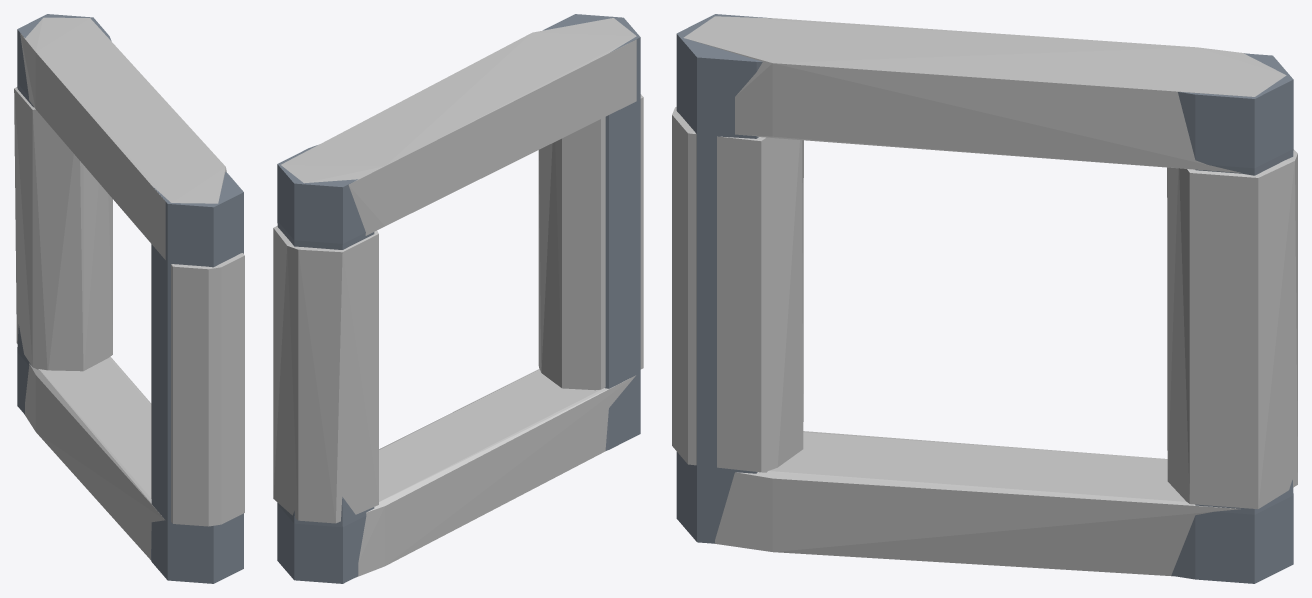
File: SM_Bld_Door_02_Handle_01.fbx
The picture shows the model from 3 angles, left to right: view 1: azimuth 30°, elevation 25°; view 2: azimuth 150°, elevation 25°; view 3: azimuth 270°, elevation 25°; orthographic projection. The views are drawn at different scales.
Visible parts, largest first — view 1: SM_Bld_Door_02_Handle_01_ConvexHulls, SM_Bld_Door_02_Handle_01; view 2: SM_Bld_Door_02_Handle_01_ConvexHulls, SM_Bld_Door_02_Handle_01; view 3: SM_Bld_Door_02_Handle_01_ConvexHulls, SM_Bld_Door_02_Handle_01.
Part boxes in pixels (x1,y1,x2,y2): SM_Bld_Door_02_Handle_01_ConvexHulls: (14,17,244,559); SM_Bld_Door_02_Handle_01: (17,14,243,583); SM_Bld_Door_02_Handle_01_ConvexHulls: (273,18,643,577); SM_Bld_Door_02_Handle_01: (277,14,640,583); SM_Bld_Door_02_Handle_01_ConvexHulls: (672,16,1297,576); SM_Bld_Door_02_Handle_01: (676,14,1293,583).
Size of the model in its own units: 7.64 by 23.35 by 20.13.
2 materials, 1 textured.
